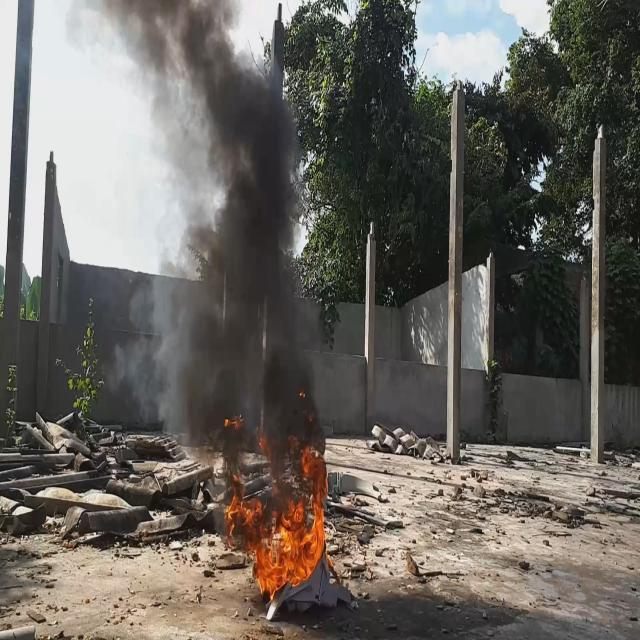Fire: (222, 426, 330, 598)
Smoke: (92, 0, 329, 463)
